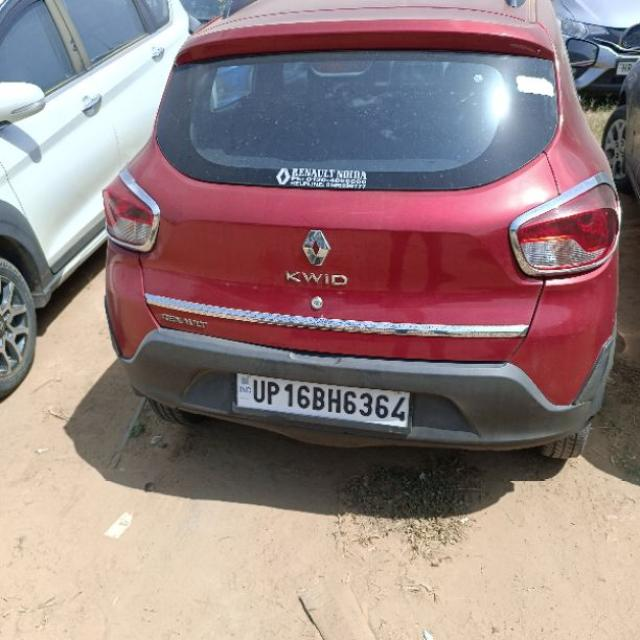license_plate: (231, 371, 413, 435)
